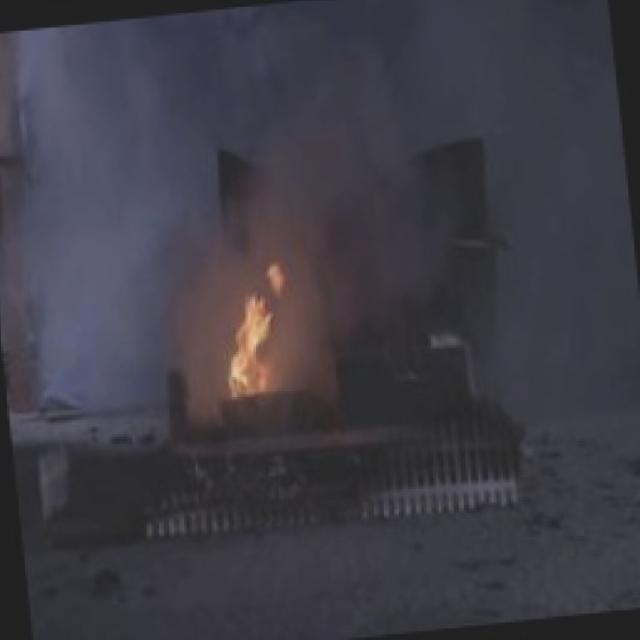fire: (199, 262, 307, 416)
smoke: (4, 0, 587, 285)
